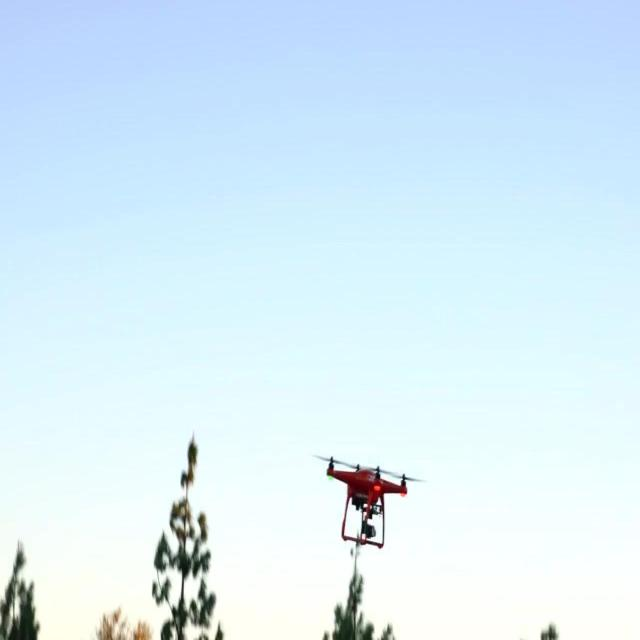drone: (311, 447, 417, 552)
